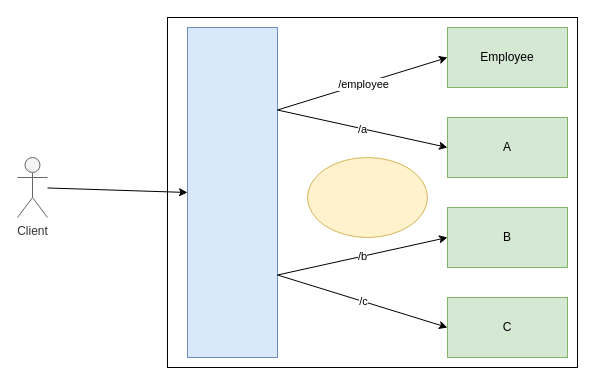
This 595x385 diagram has some shape labels left out. The shapes that lost their labels are listed below. From the top down, each one's centre as x and y in pixels, then its label:
At (x=232, y=192): "A P I G A T E W A Y".
At (x=367, y=197): "Hystyrix".
